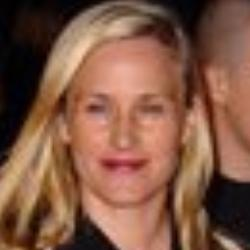face: (7, 3, 226, 234)
